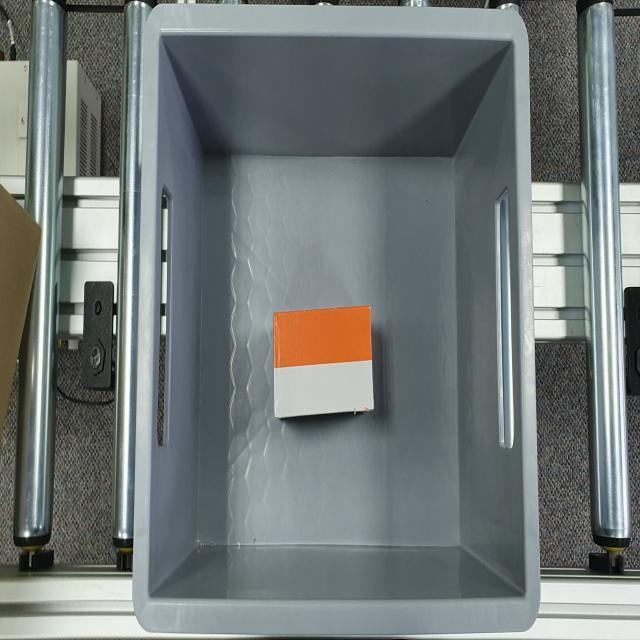box: (274, 302, 376, 422)
